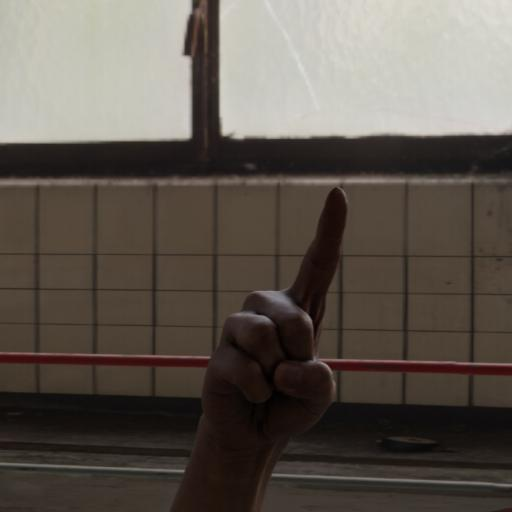Z: (194, 187, 386, 461)
